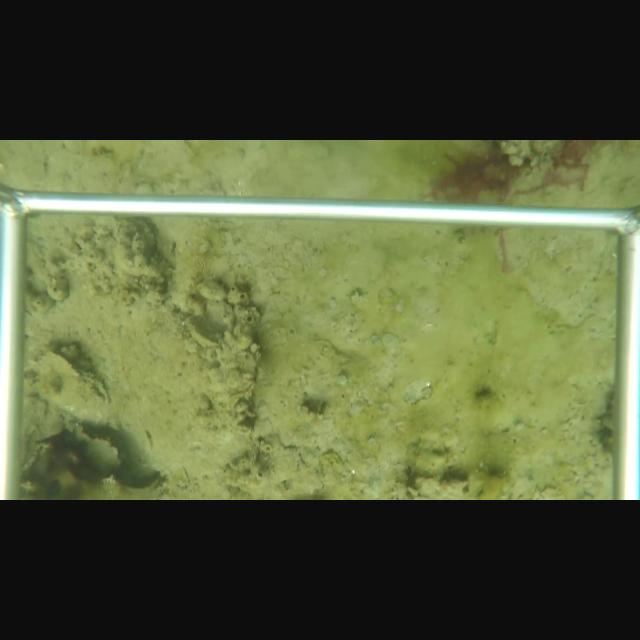Oyster-Closed: (25, 350, 115, 432)
